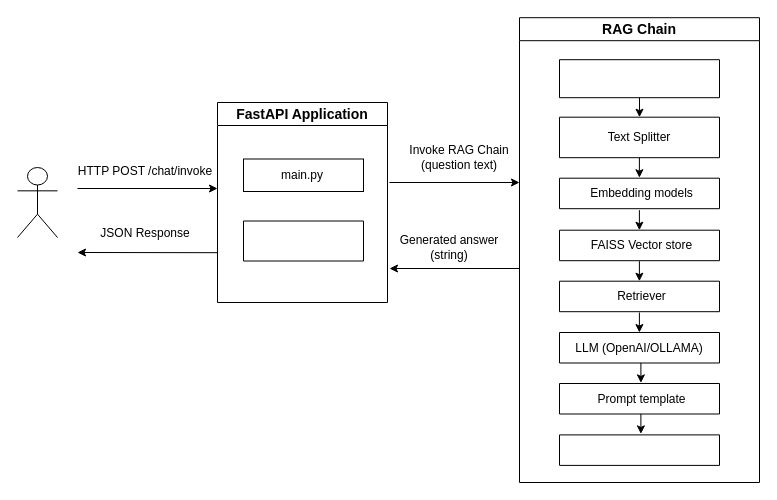
Some shapes in this 777 by 500 pixel diagram are drawn without their labels. The shapes that lost their labels are listed below. From the top down, each one's centre as x and y in pixels, then its label:
At [639,78]: "Document loaders".
At [37,202]: "Client".
At [303,240]: "LangServer Routes".
At [639,449]: "Output Parser".
